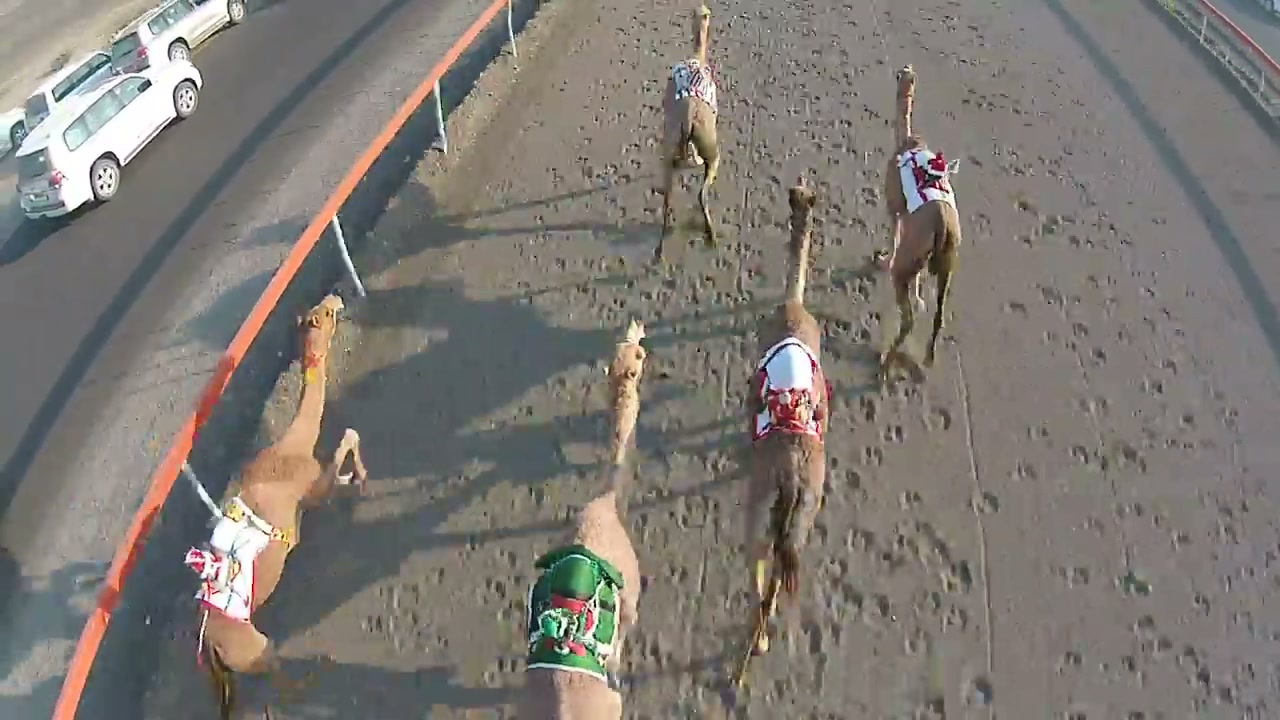animal_footprint: (295, 47, 657, 709), (932, 38, 1262, 706), (780, 24, 990, 709), (624, 15, 795, 715), (868, 58, 1048, 577)
